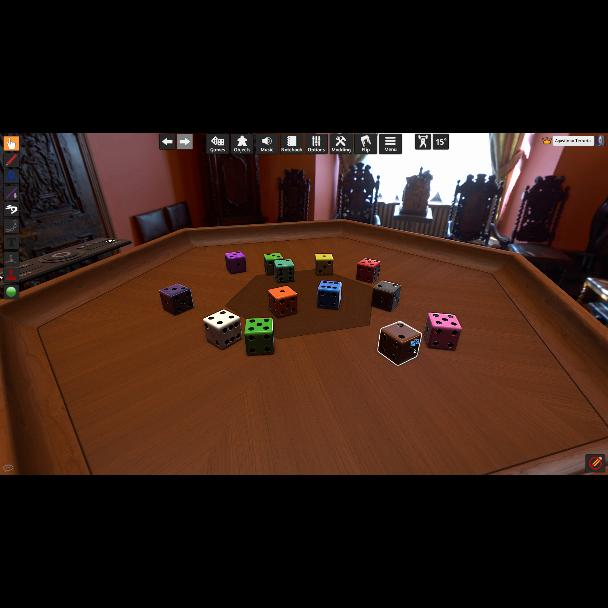d6: (377, 322, 417, 366), (204, 310, 242, 350), (425, 314, 463, 350), (245, 317, 275, 355), (159, 284, 194, 316), (268, 286, 296, 318), (371, 282, 399, 312), (316, 280, 340, 310), (356, 258, 380, 284), (225, 252, 247, 274), (274, 259, 294, 283), (263, 253, 283, 276), (315, 254, 333, 276)
